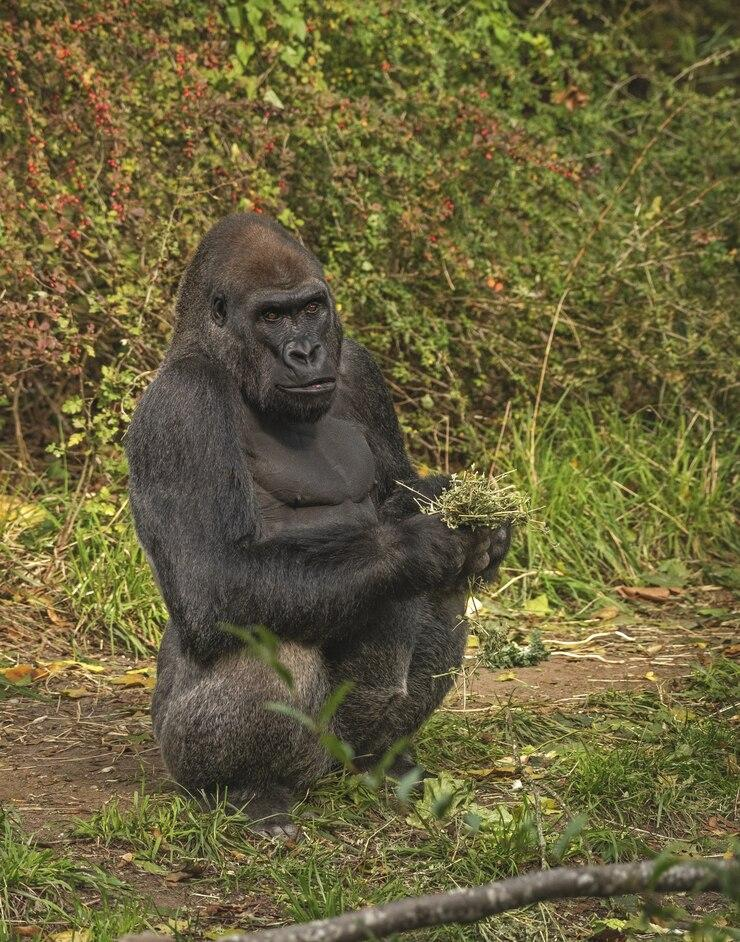gorille_Autres: (115, 172, 550, 856)
